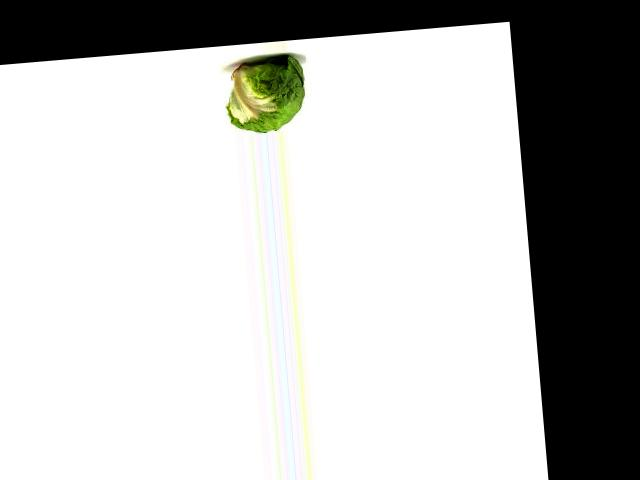lettuce: (220, 49, 310, 135)
